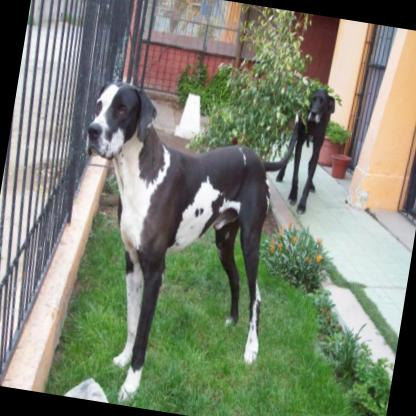Great_Dane: (42, 73, 304, 416), (270, 84, 336, 216)
